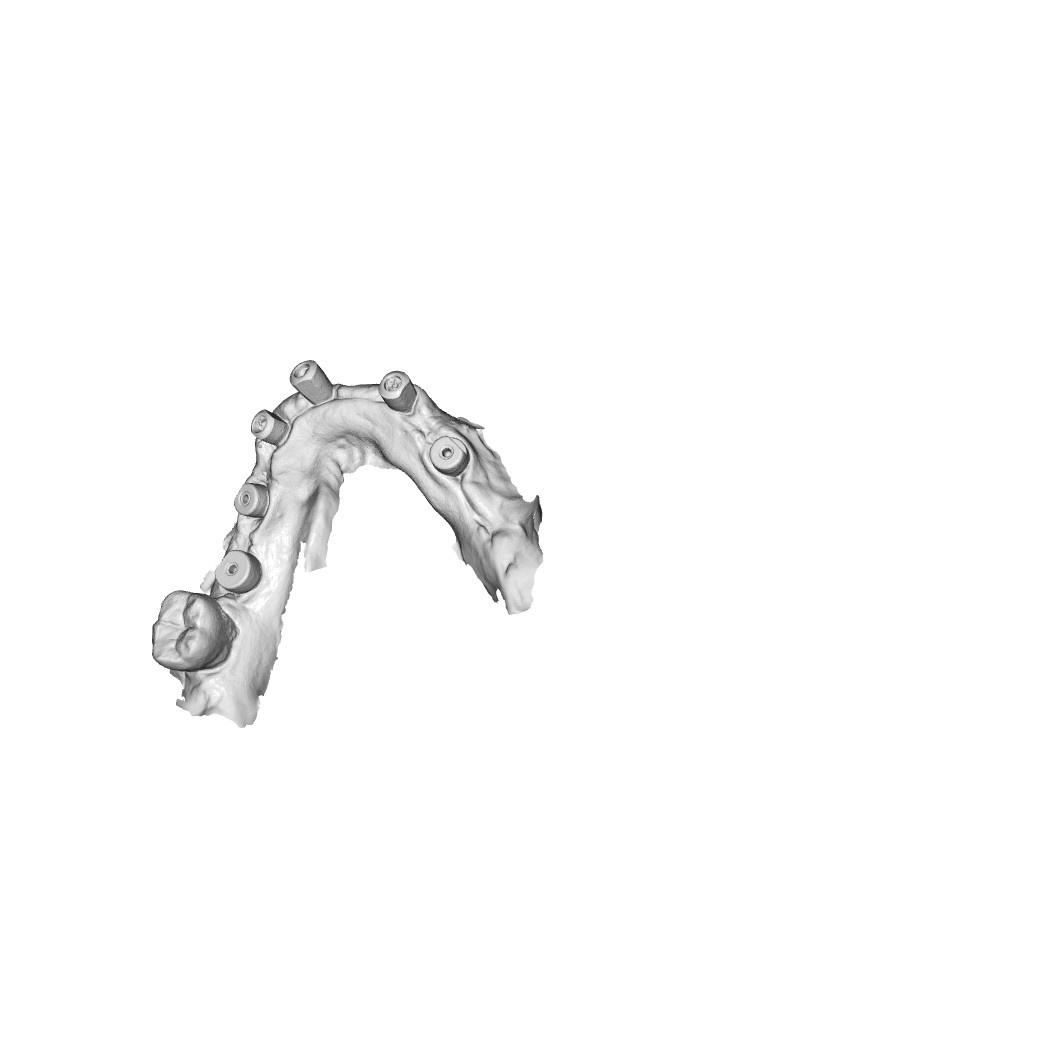implant: (288, 356, 336, 406), (212, 549, 264, 595), (427, 434, 472, 478), (377, 370, 418, 411), (229, 480, 269, 518), (250, 407, 288, 442)
molar: (148, 588, 233, 673)
